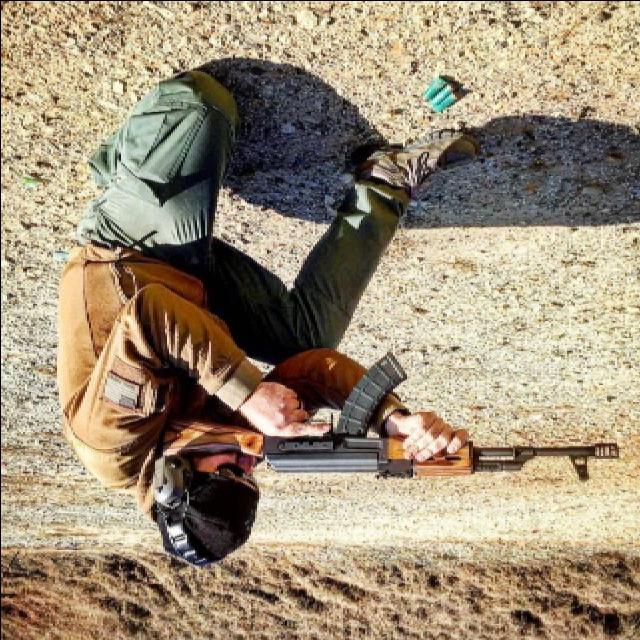rifle: (175, 351, 623, 495)
